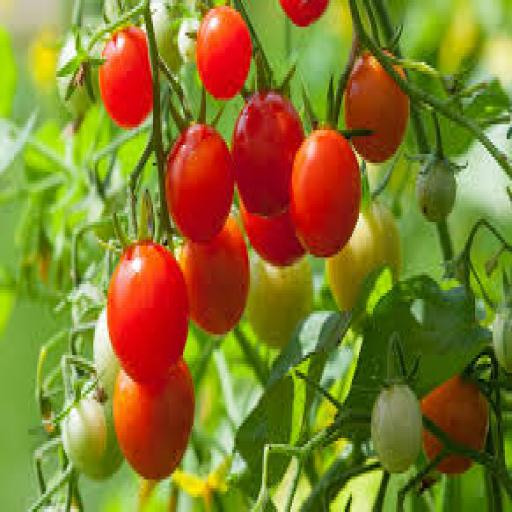tomato: (108, 243, 188, 381), (115, 359, 195, 479), (233, 92, 304, 216), (291, 131, 360, 257), (326, 202, 401, 310), (180, 217, 249, 334), (166, 125, 234, 242), (345, 54, 408, 162), (247, 258, 313, 349), (99, 27, 153, 127), (196, 6, 251, 100), (421, 376, 489, 449), (372, 385, 422, 473), (240, 202, 304, 266), (62, 397, 107, 476), (90, 397, 124, 479), (416, 160, 457, 221), (94, 308, 119, 399), (152, 0, 181, 71), (57, 74, 91, 118), (280, 0, 329, 26), (493, 311, 511, 372), (178, 18, 200, 62), (104, 0, 138, 20)
